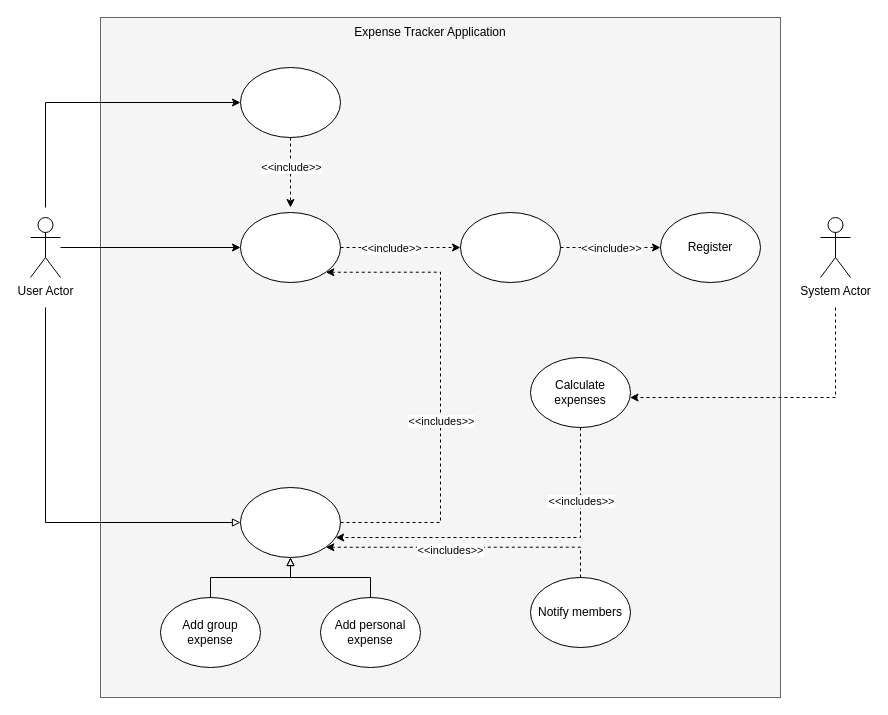
Image size: 888x715. Some labels were removed from this diagram. The centre of each missing label's shape, as x and y in pixels:
"Add expense" belongs at point (290, 522).
"Add members to trip" belongs at point (290, 102).
"Add Trip" belongs at point (290, 247).
"Login" belongs at point (510, 247).
